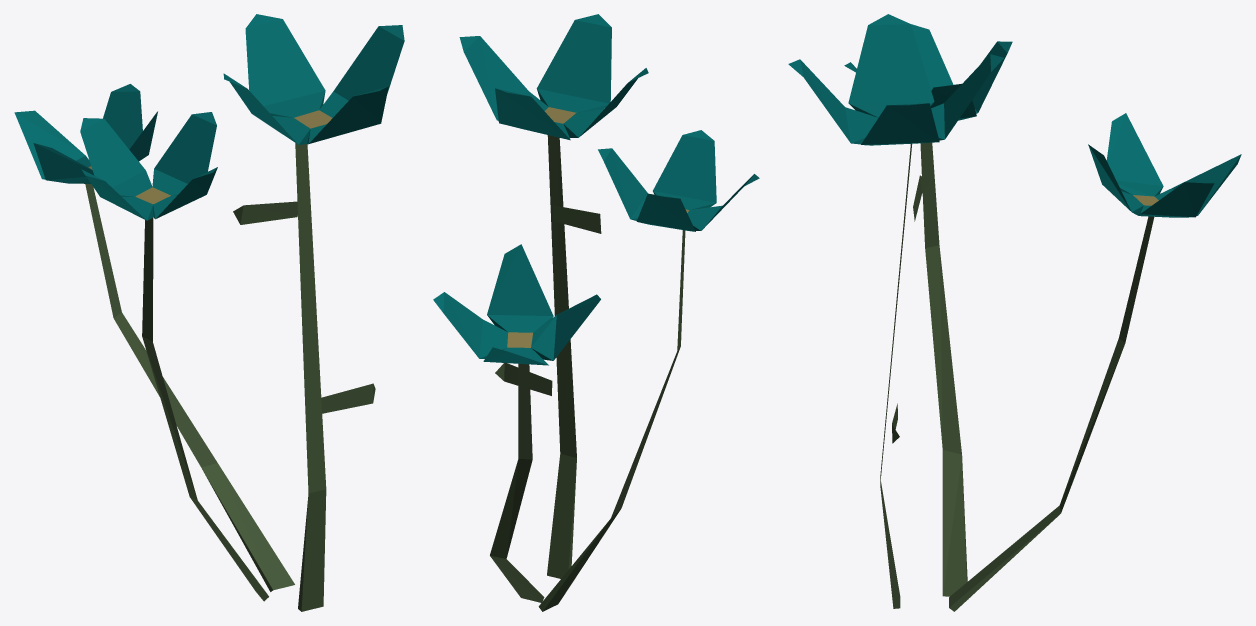
File: plant_flower_4.glb
3 renders of one model, left to right at view 1: azimuth 30°, elevation 25°; view 2: azimuth 150°, elevation 25°; view 3: azimuth 270°, elevation 25°, orthographic. The views are drawn at different scales.
Visible parts, largest first — view 1: plant_flower_4; view 2: plant_flower_4; view 3: plant_flower_4.
Boxes of the visible parts, <box> form: plant_flower_4: <box>14,14,404,611</box>; plant_flower_4: <box>433,14,759,611</box>; plant_flower_4: <box>788,14,1241,611</box>.
Bounding box in the file's own units: 0.4786 × 0.8044 × 0.6.
